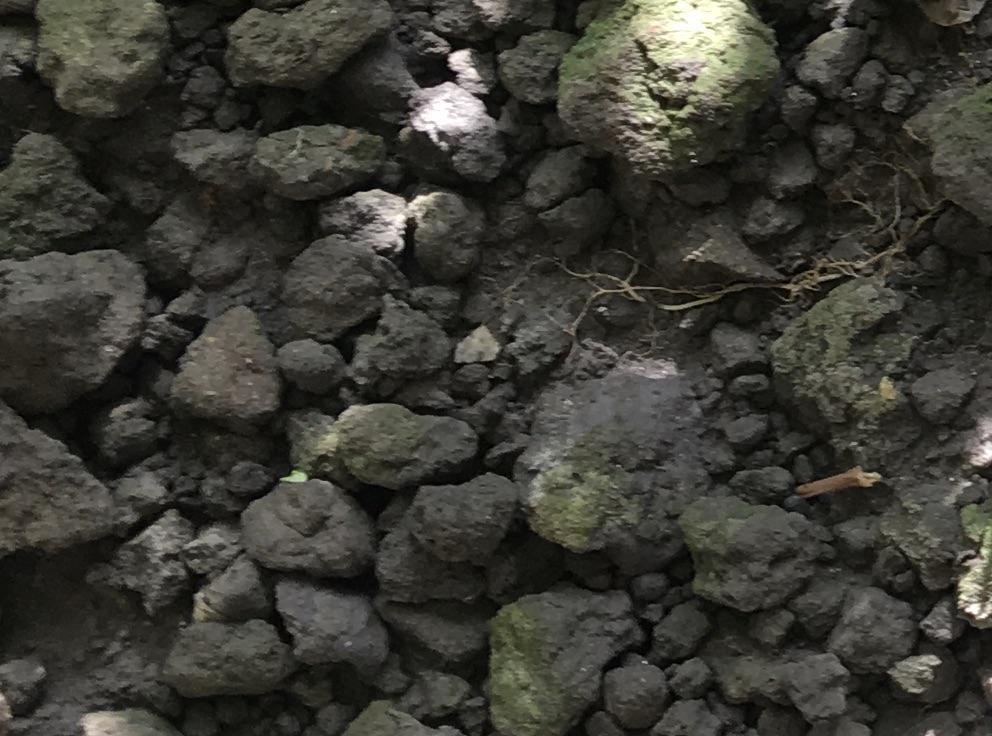block: (554, 1, 788, 183), (517, 356, 724, 554), (1, 246, 145, 415), (37, 1, 168, 122)
